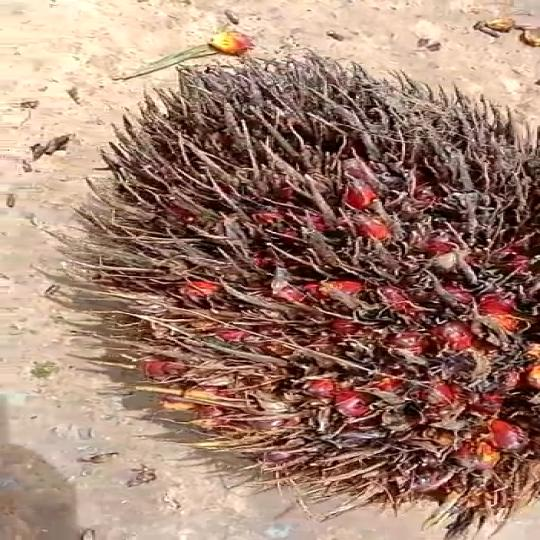terlalu masak: (40, 46, 540, 540)
